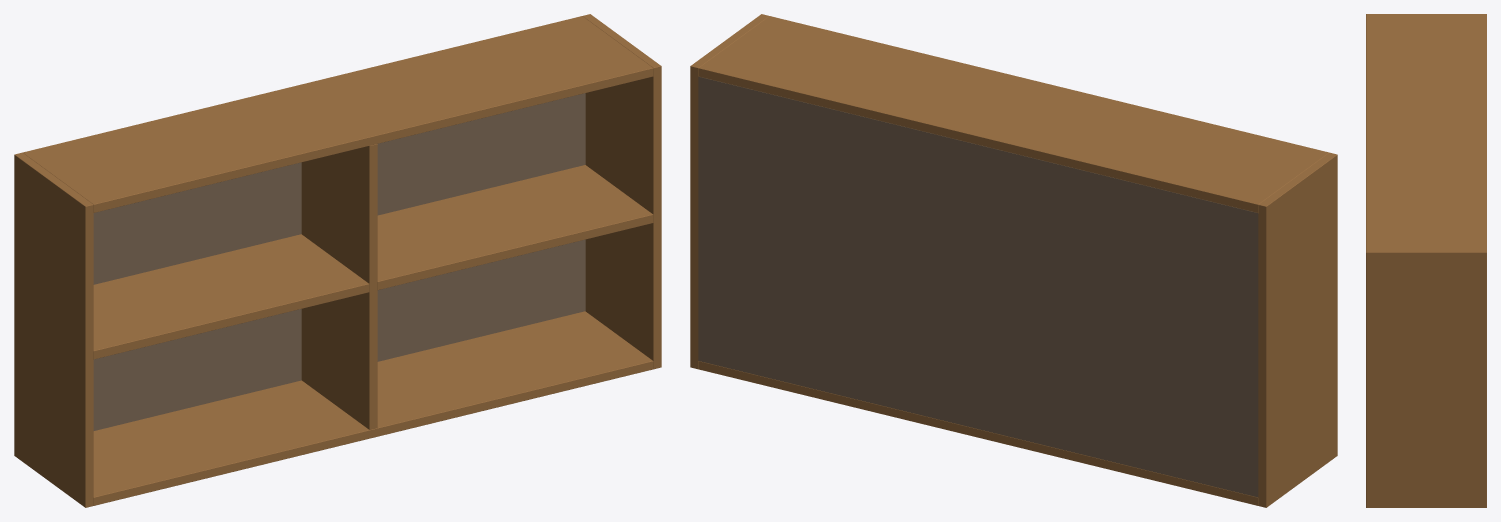
Rendered from Alacena_A.fbx.
3 renders of one model, left to right at view 1: azimuth 30°, elevation 25°; view 2: azimuth 150°, elevation 25°; view 3: azimuth 270°, elevation 25°, orthographic. The views are drawn at different scales.
Visible parts, largest first — view 1: Fondo cerrado, Tapa superior, Tapa inferior, Costado izquierdo, Estante derecho, Estante izquierdo, Costado derecho, Division vertical central; view 2: Fondo cerrado, Tapa superior, Costado izquierdo, Tapa inferior, Costado derecho; view 3: Costado derecho, Tapa superior, Costado izquierdo.
Boxes of the visible parts, <box> form: Fondo cerrado: <box>93,93,585,430</box>; Tapa superior: <box>22,16,653,212</box>; Tapa inferior: <box>93,311,653,505</box>; Costado izquierdo: <box>14,152,93,507</box>; Estante derecho: <box>377,165,653,289</box>; Estante izquierdo: <box>93,234,369,359</box>; Costado derecho: <box>582,14,661,369</box>; Division vertical central: <box>301,144,377,429</box>; Fondo cerrado: <box>698,76,1258,497</box>; Tapa superior: <box>698,16,1329,212</box>; Costado izquierdo: <box>1258,152,1337,507</box>; Tapa inferior: <box>698,361,1258,505</box>; Costado derecho: <box>690,14,769,369</box>; Costado derecho: <box>1366,249,1486,507</box>; Tapa superior: <box>1366,17,1486,248</box>; Costado izquierdo: <box>1366,14,1486,17</box>.
Size of the model in its own units: 303 by 152 by 64.94.
